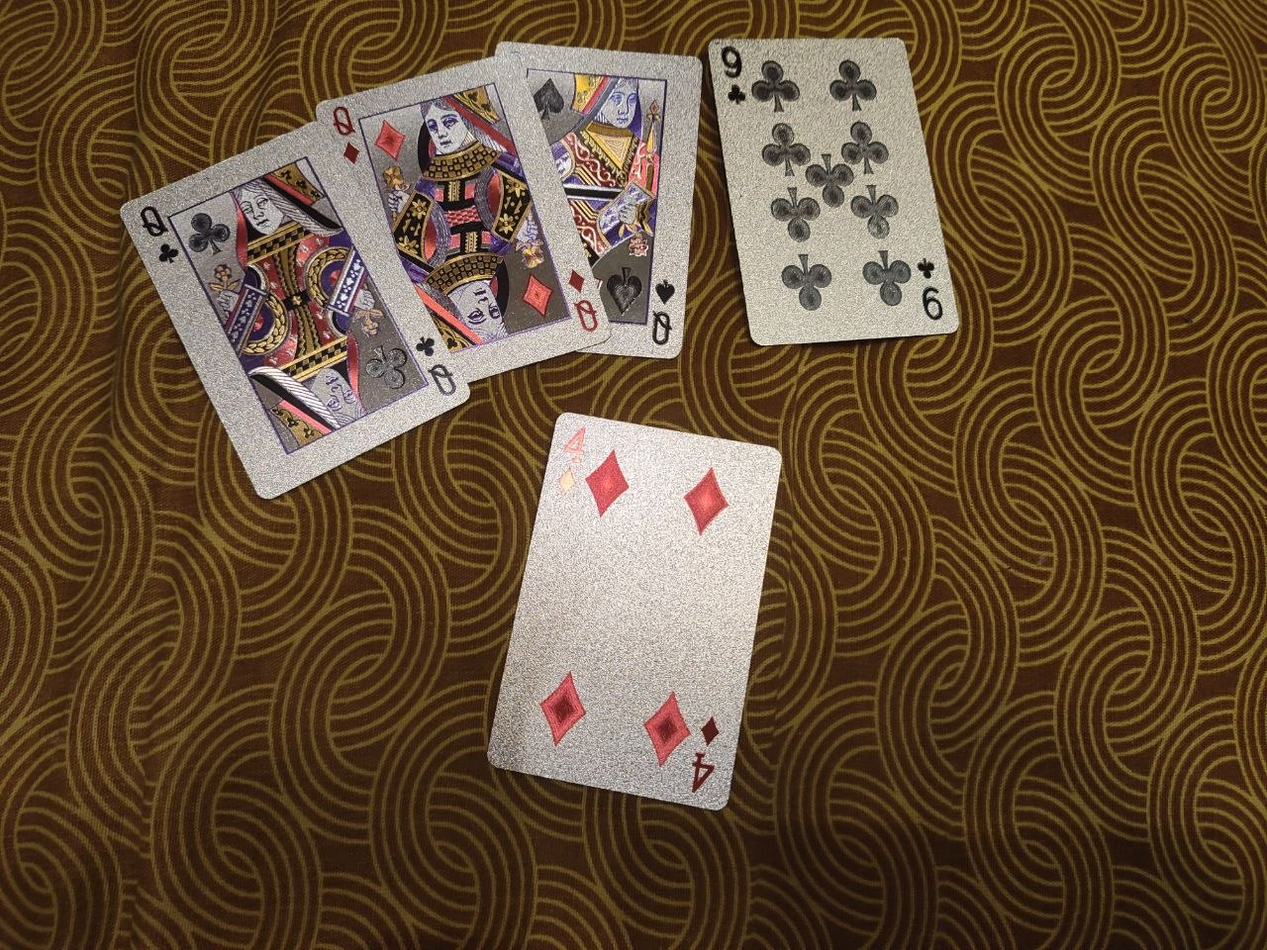4D: (482, 410, 785, 812)
9C: (707, 36, 959, 348)
QC: (119, 119, 473, 501)
QD: (313, 53, 610, 385)
QS: (493, 40, 704, 360)
